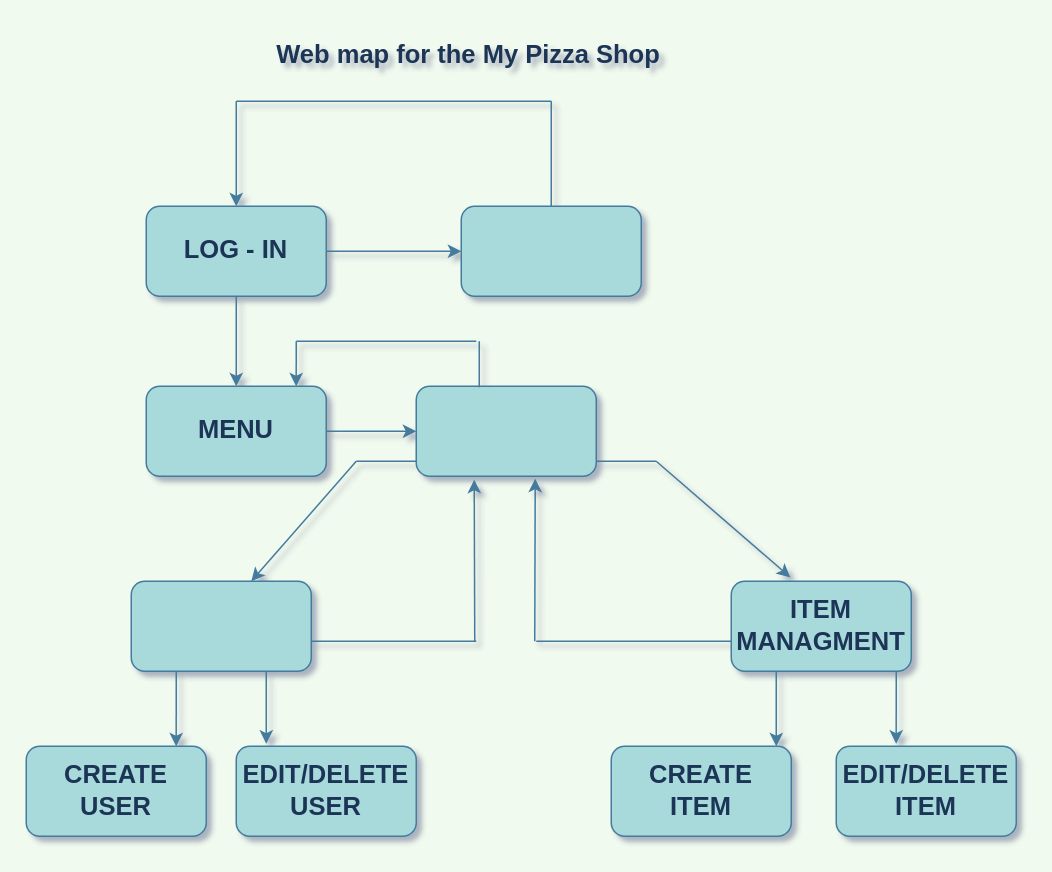
The diagram is 1052 pixels wide and 872 high, and some of its shapes have lost their labels. The centre of each missing label's shape, as x and y in pixels:
ADMIN: the point at 505,430
REGISTER: the point at 550,250
USER MANAGMENT: the point at 220,625
